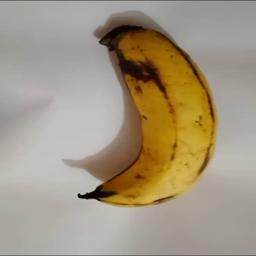Banana Semifresh: (80, 23, 216, 210)
